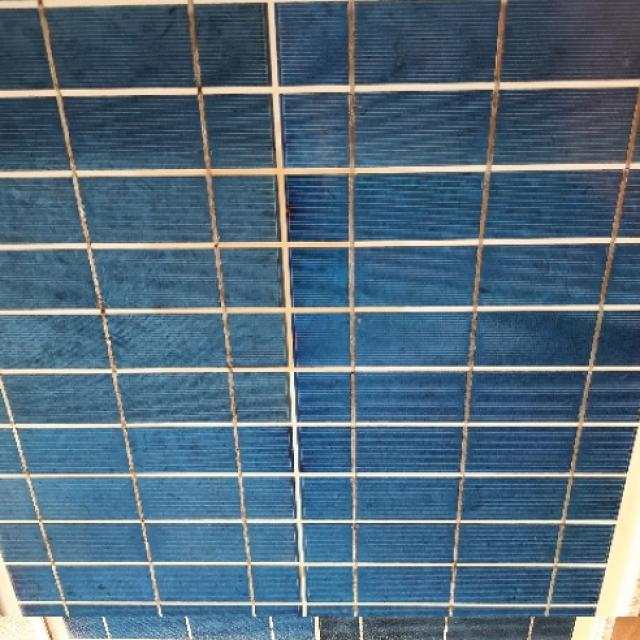Clean: (0, 0, 640, 617)
